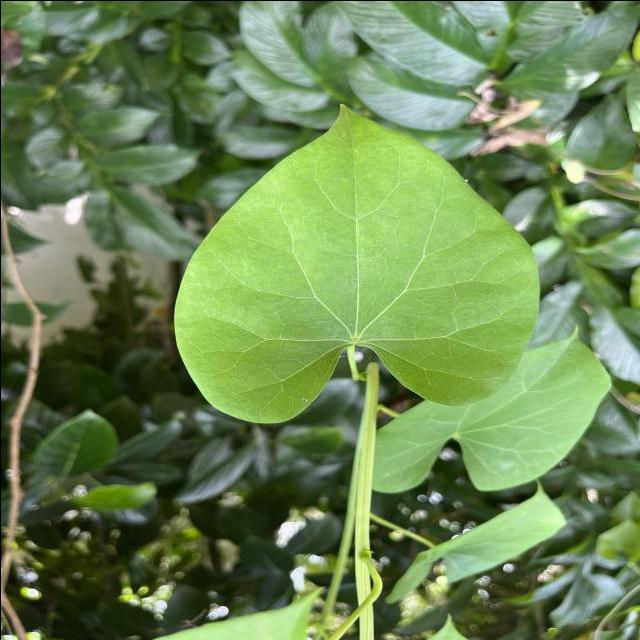Tinospora cordifolia: (166, 99, 544, 428)
